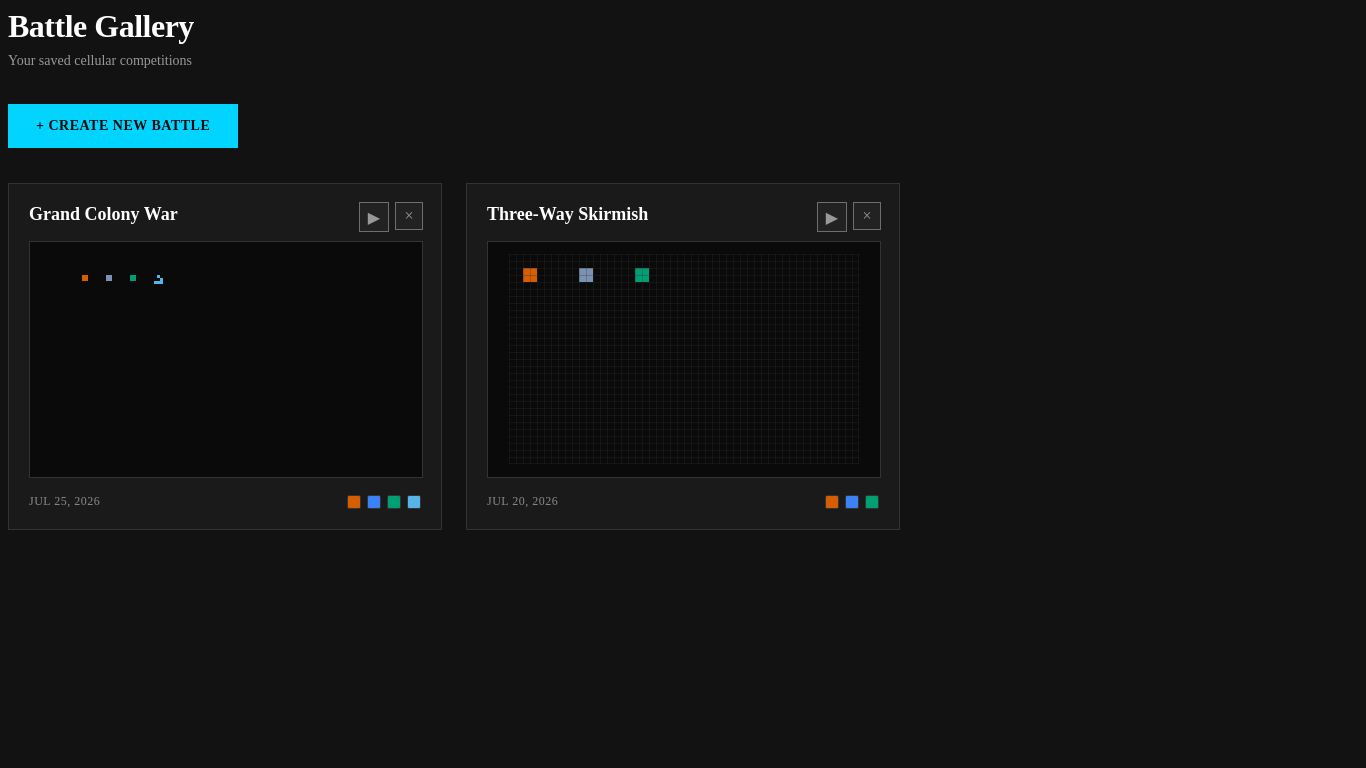
Scenario: BattleGallery — delete flow (Story 1.13) › Escape closes the dialog without deleting anything
This screenshot has width=1366, height=768.
Click the button named "Delete " at (409, 216), box [395,202,423,230]
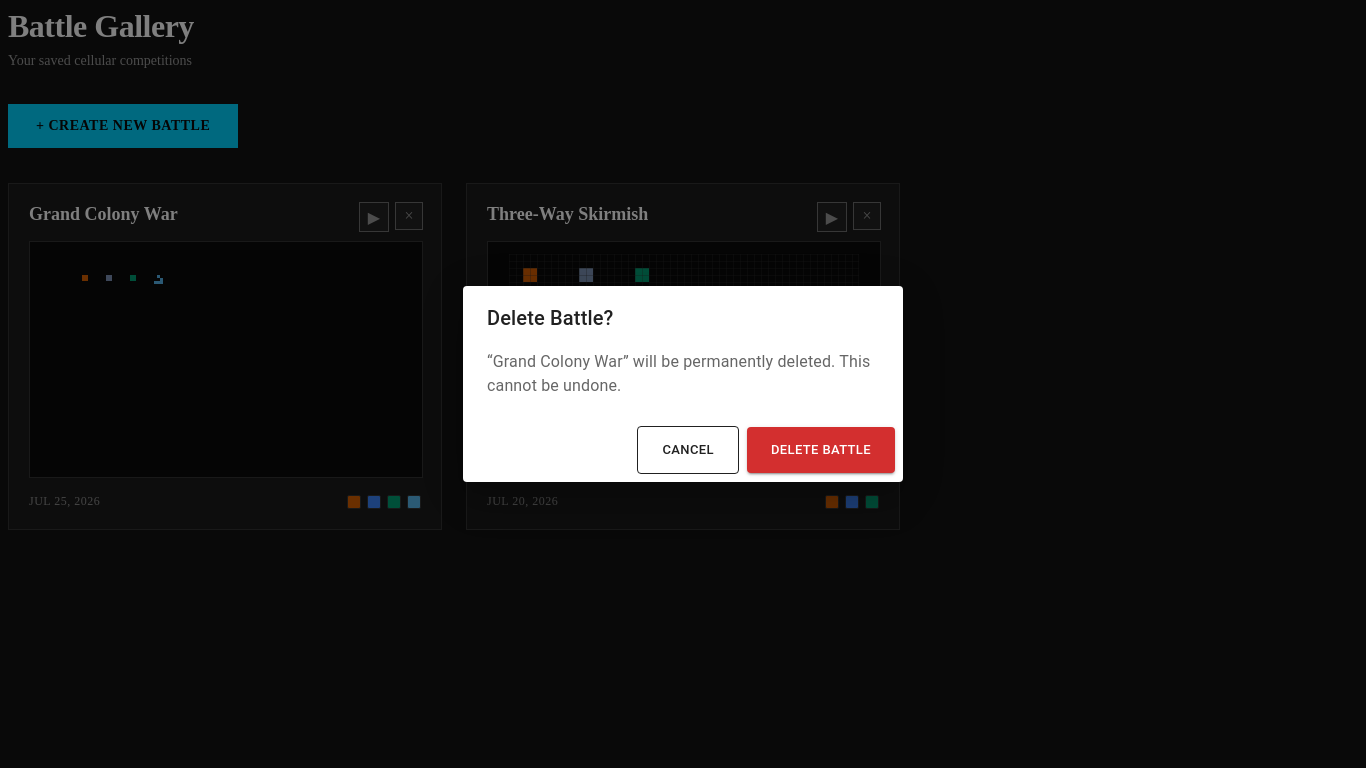
Result: the dialog is shown at [463,286,903,482]
Press Escape
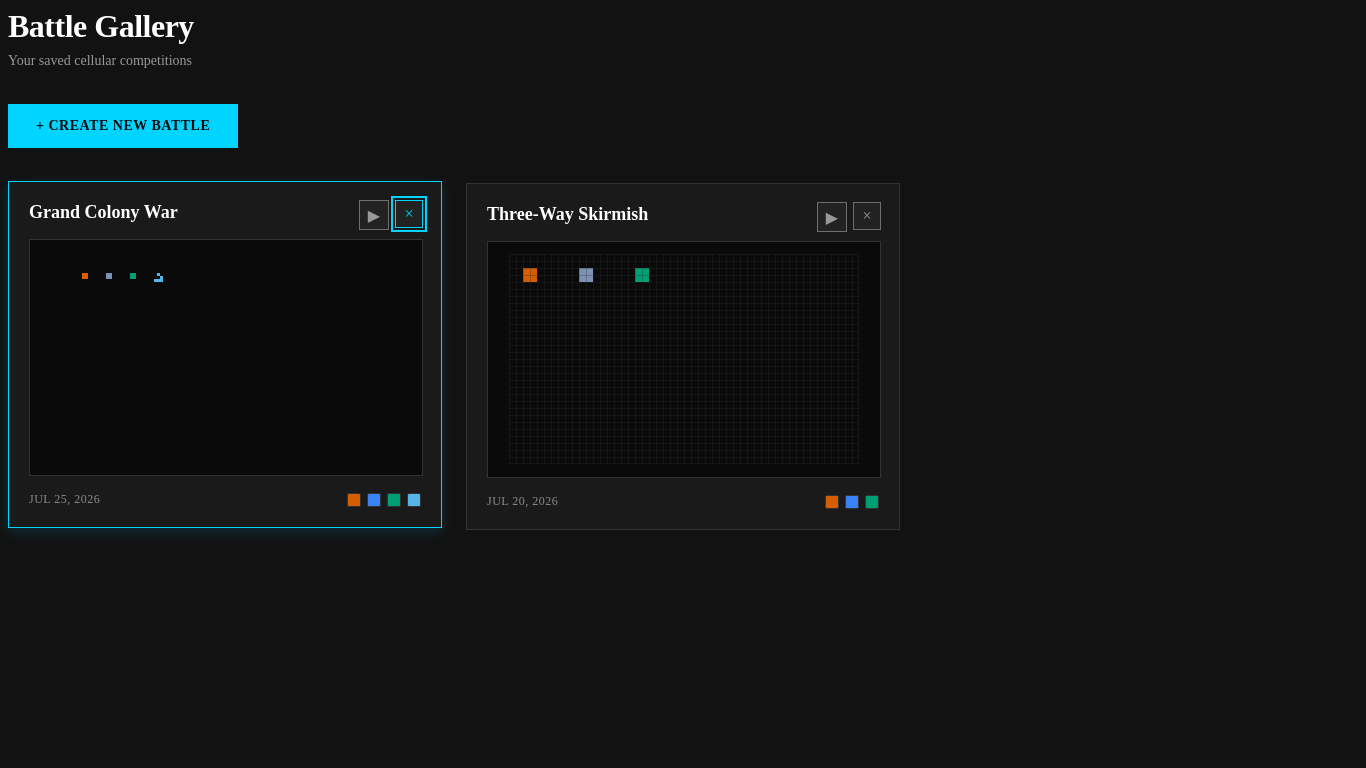
Result: the dialog is gone
